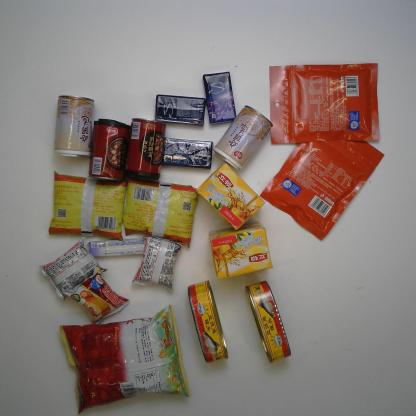Candy: (88, 237, 148, 261)
Canned Food: (242, 280, 292, 366), (212, 106, 273, 171), (187, 280, 230, 364), (124, 114, 166, 184), (52, 92, 96, 158), (86, 117, 126, 183)
Dessert: (38, 236, 104, 304), (62, 270, 130, 323), (131, 234, 182, 294)
Dried Fruit: (260, 122, 385, 242), (266, 61, 384, 147)
Gum: (201, 70, 237, 125), (160, 135, 214, 171), (153, 93, 207, 128)
Instant Drink: (195, 162, 267, 230), (207, 225, 275, 280)
Puffed Food: (57, 306, 190, 413)
Seasoner: (46, 170, 125, 241), (122, 179, 200, 248)
